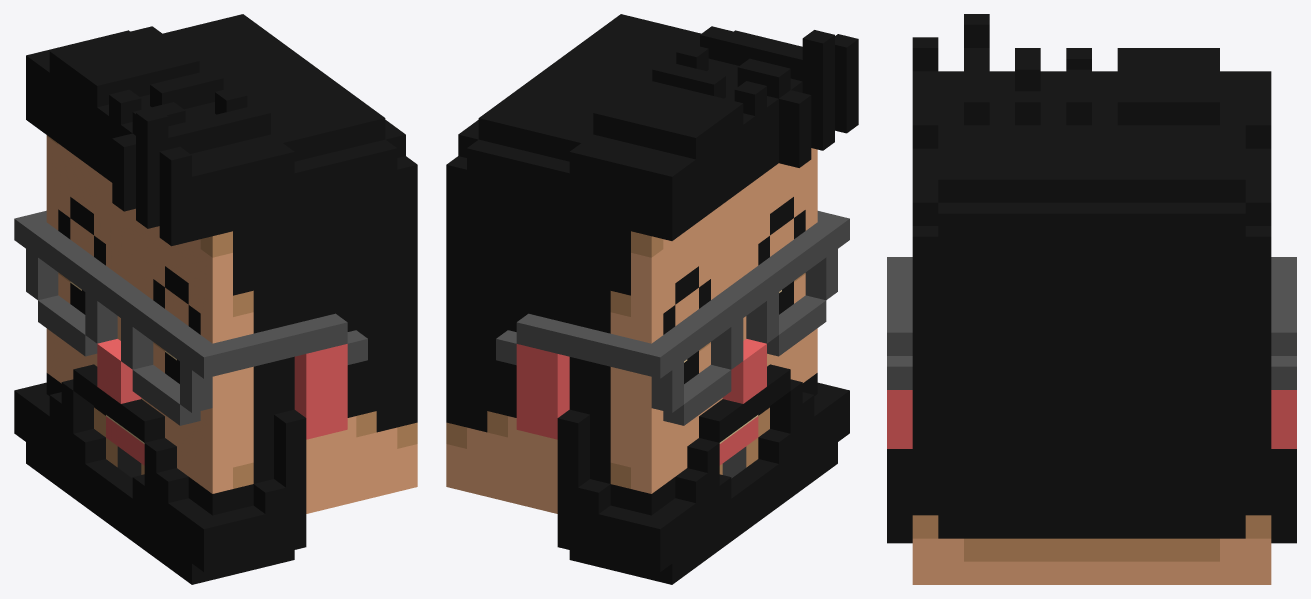
3 views of the same model, side by side, from view 1: azimuth 30°, elevation 25°; view 2: azimuth 150°, elevation 25°; view 3: azimuth 270°, elevation 25° (orthographic). The views are drawn at different scales.
Visible parts, largest first — view 1: Face; view 2: Face; view 3: Face.
Part boxes in pixels (x1,y1,x2,y2): Face: (14, 14, 417, 584); Face: (446, 14, 858, 584); Face: (887, 14, 1296, 584).
Size of the model in its own units: 1.2 by 2.1 by 1.6.
Materials: 1 (1 with a texture image).
